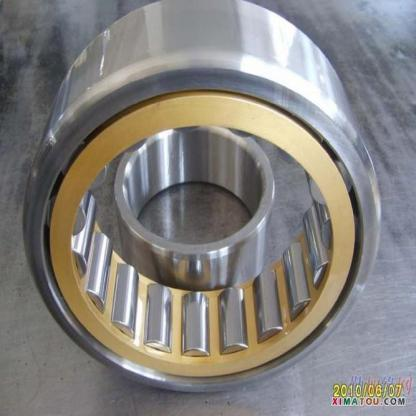FOD: (21, 0, 387, 403)
